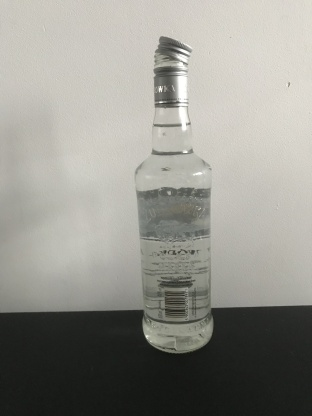nakretka: (152, 34, 193, 107)
